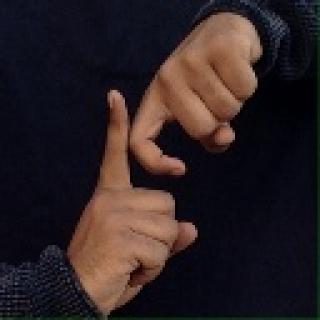K: (70, 25, 256, 301)
